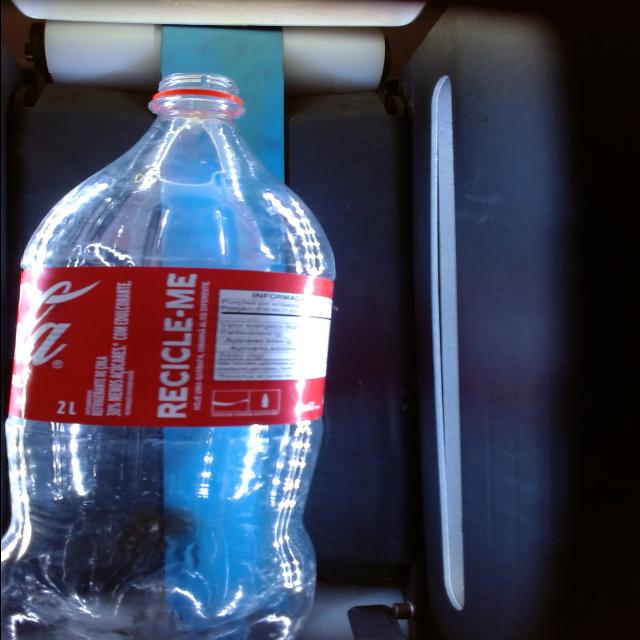bottom: (3, 417, 320, 639)
label: (9, 267, 331, 427)
neck: (21, 74, 334, 279)
